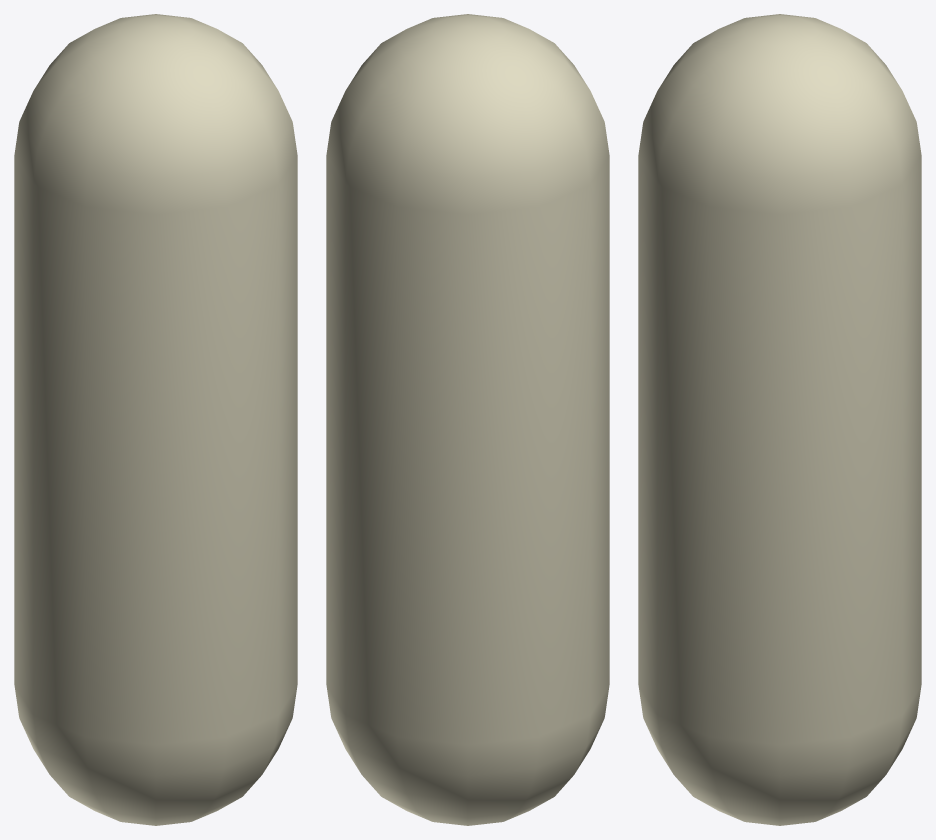
Rendered from egg.FBX.
The picture shows the model from 3 angles, left to right: view 1: azimuth 30°, elevation 25°; view 2: azimuth 150°, elevation 25°; view 3: azimuth 270°, elevation 25°; orthographic projection.
Visible parts, largest first — view 1: Capsule001; view 2: Capsule001; view 3: Capsule001.
Part boxes in pixels (x1=…): Capsule001: x1=14, y1=14, x2=297, y2=825; Capsule001: x1=326, y1=14, x2=609, y2=825; Capsule001: x1=638, y1=14, x2=921, y2=825.
Size of the model in its own units: 116 by 357 by 116.
